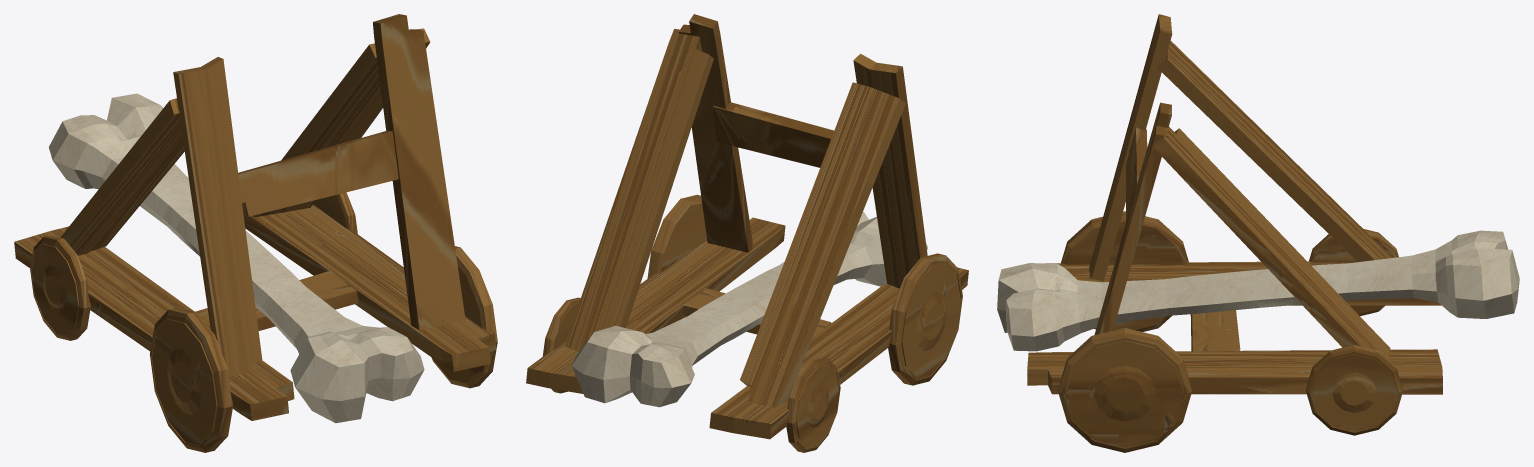
File: Catapult.fbx
3 views of the same model, side by side, from view 1: azimuth 30°, elevation 25°; view 2: azimuth 150°, elevation 25°; view 3: azimuth 270°, elevation 25° (orthographic). The views are drawn at different scales.
Visible parts, largest first — view 1: Wood, BoneTypeShi; view 2: Wood, BoneTypeShi; view 3: Wood, BoneTypeShi.
Part boxes in pixels (bbox=[...]): Wood: bbox=[14, 14, 497, 452]; BoneTypeShi: bbox=[48, 93, 424, 423]; Wood: bbox=[526, 14, 968, 452]; BoneTypeShi: bbox=[572, 212, 927, 407]; Wood: bbox=[1027, 14, 1442, 452]; BoneTypeShi: bbox=[997, 230, 1519, 351].
Bounding box in the file's own units: 337 × 408 × 592.
Materials: 2 (2 with a texture image).
